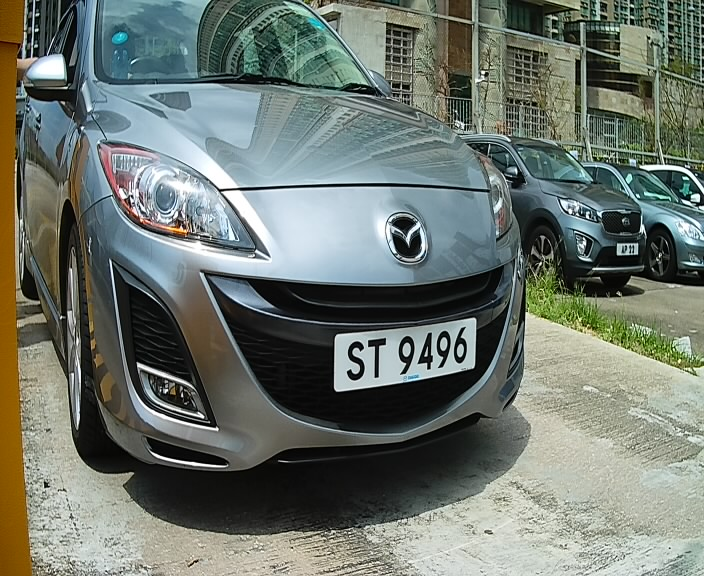Car: (2, 10, 533, 511)
License Plate: (327, 318, 487, 397)
